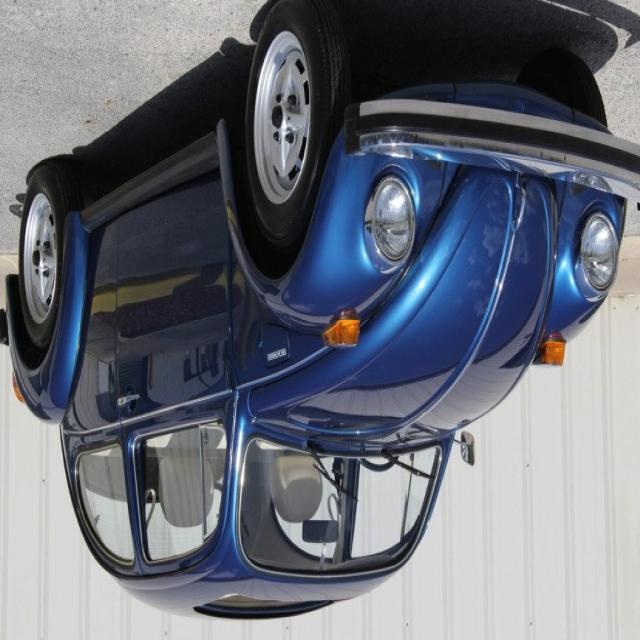blue: (12, 32, 640, 630)
